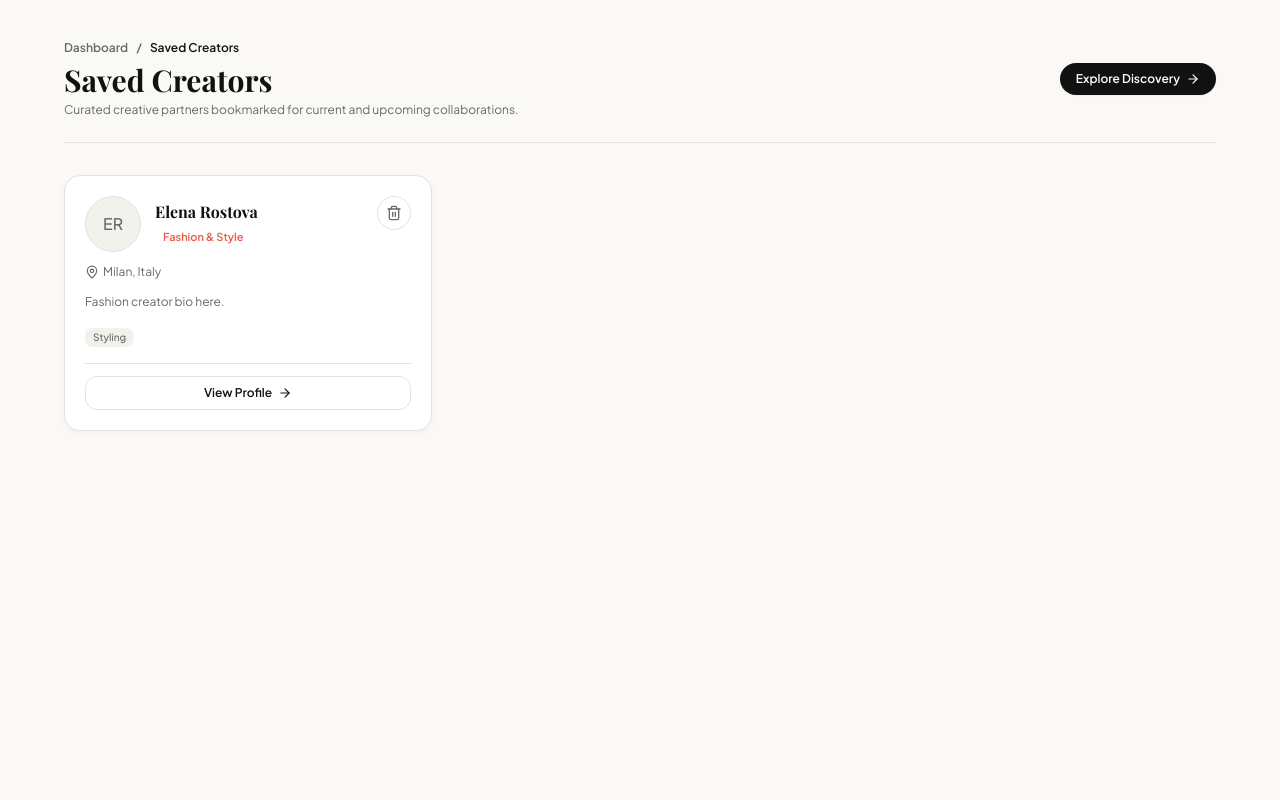
Phase 16 Part 3 — Toast Mutation Feedback Integration Suite › 1. Bookmark Success & Failure Toasts › shows "Failed to update saved creator. Please try again." error toast on bookmark mutation failure
Expected: the heading "Elena Rostova" is shown, [155,201,258,223]
Step 1. Click the button named "Unsave Elena Rostova" → (394, 213), box [377,196,411,230]
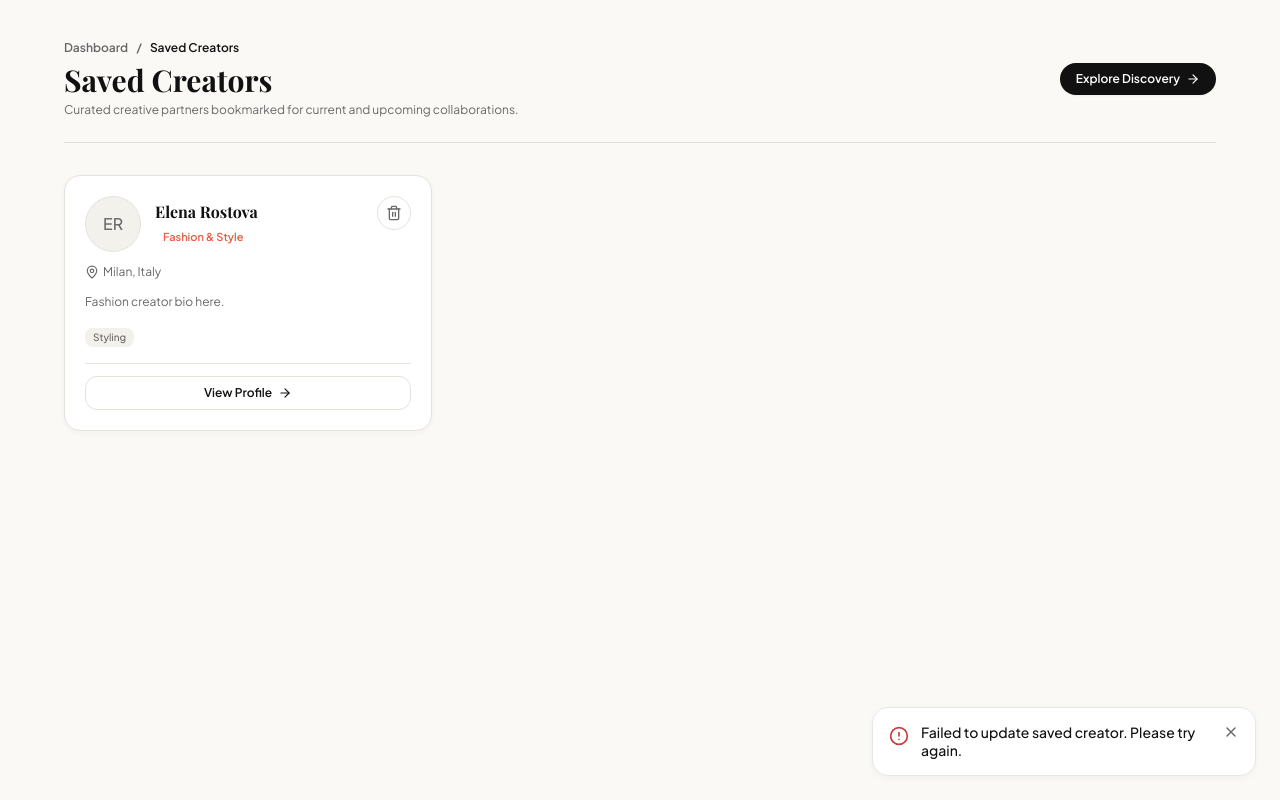
Now the text "Failed to update saved creator. Please try again." is shown, box [921,724,1207,759]
